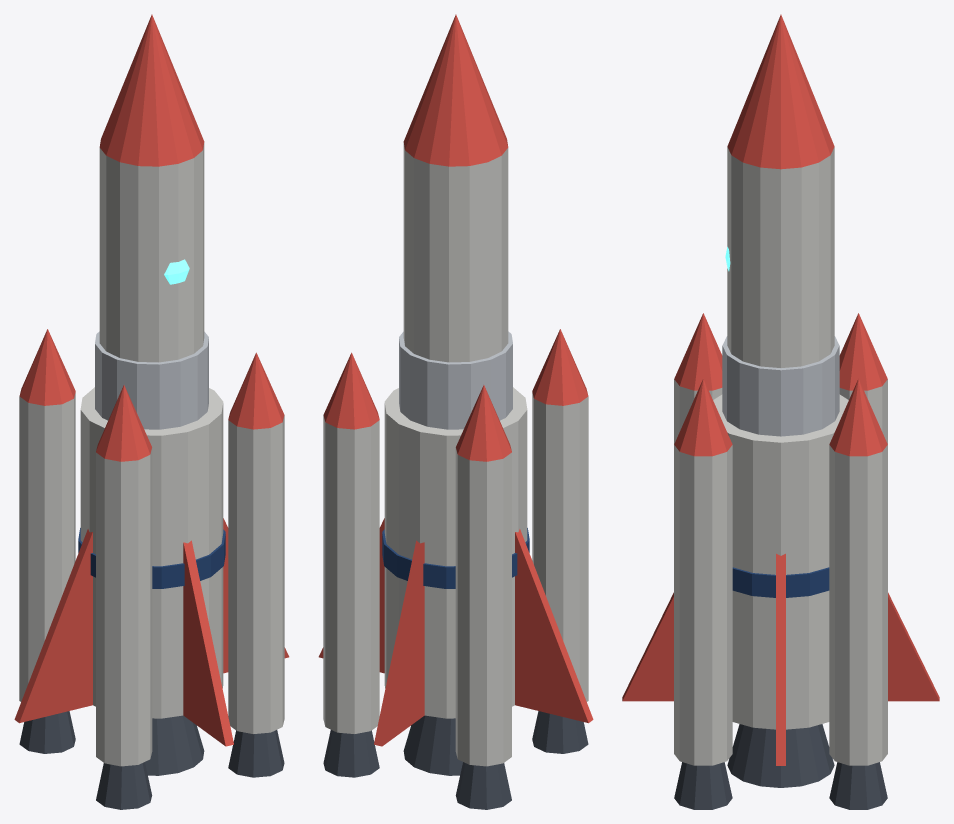
File: vehicle_orbital.glb
3 renders of one model, left to right at view 1: azimuth 30°, elevation 25°; view 2: azimuth 150°, elevation 25°; view 3: azimuth 270°, elevation 25°, orthographic.
Parts seen in each view (by area): view 1: vehicle_orbital; view 2: vehicle_orbital; view 3: vehicle_orbital.
Boxes of the visible parts, left/top/right/bottom form: vehicle_orbital: left=14, top=14, right=289, bottom=809; vehicle_orbital: left=318, top=14, right=593, bottom=809; vehicle_orbital: left=622, top=14, right=939, bottom=809.
Bounding box in the file's own units: 0.7647 × 2 × 0.7647.
